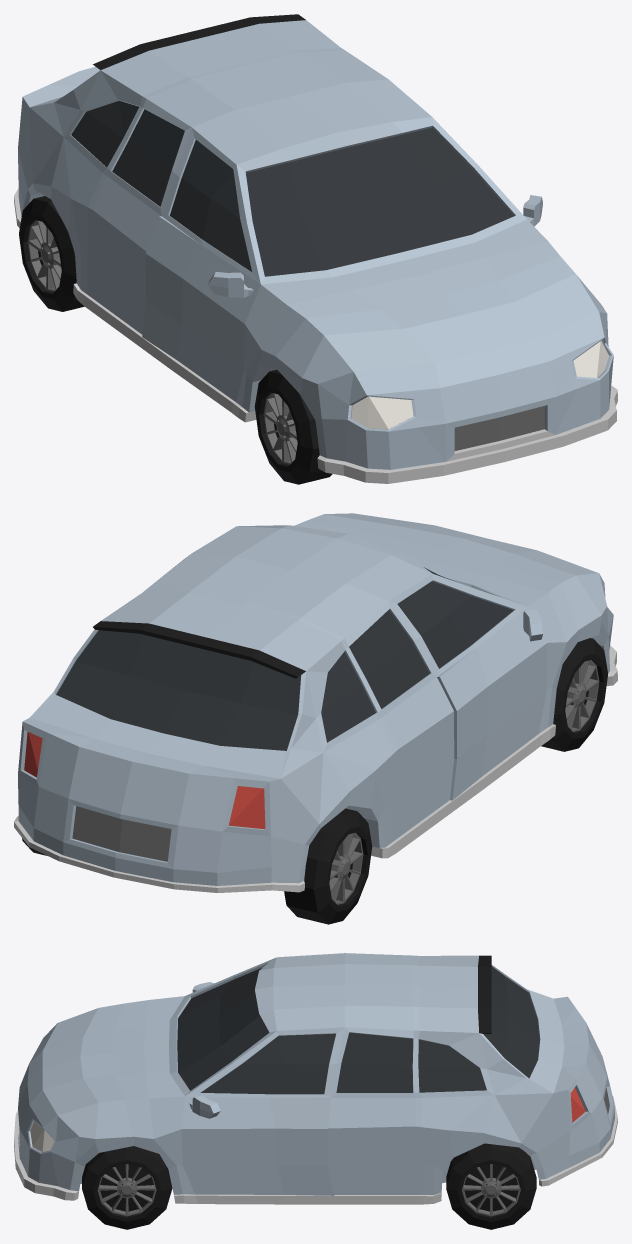
The model's file is hatch.gltf.
3 renders of one model, top to bottom at view 1: azimuth 30°, elevation 25°; view 2: azimuth 150°, elevation 25°; view 3: azimuth 270°, elevation 25°, orthographic. The views are drawn at different scales.
Visible parts, largest first — view 1: Body, Wheel_FR, Wheel_RR; view 2: Body, Wheel_RR, Wheel_FR; view 3: Body, Wheel_RL, Wheel_FL.
Part boxes in pixels (<box>): Body: <box>14,14,617,483</box>; Wheel_FR: <box>254,369,332,484</box>; Wheel_RR: <box>19,196,84,311</box>; Body: <box>14,513,617,892</box>; Wheel_RR: <box>284,808,372,924</box>; Wheel_FR: <box>541,638,607,751</box>; Body: <box>14,953,617,1204</box>; Wheel_RL: <box>446,1143,536,1229</box>; Wheel_FL: <box>82,1146,172,1229</box>.
Size of the model in its own units: 1.64 by 1.15 by 3.31.
